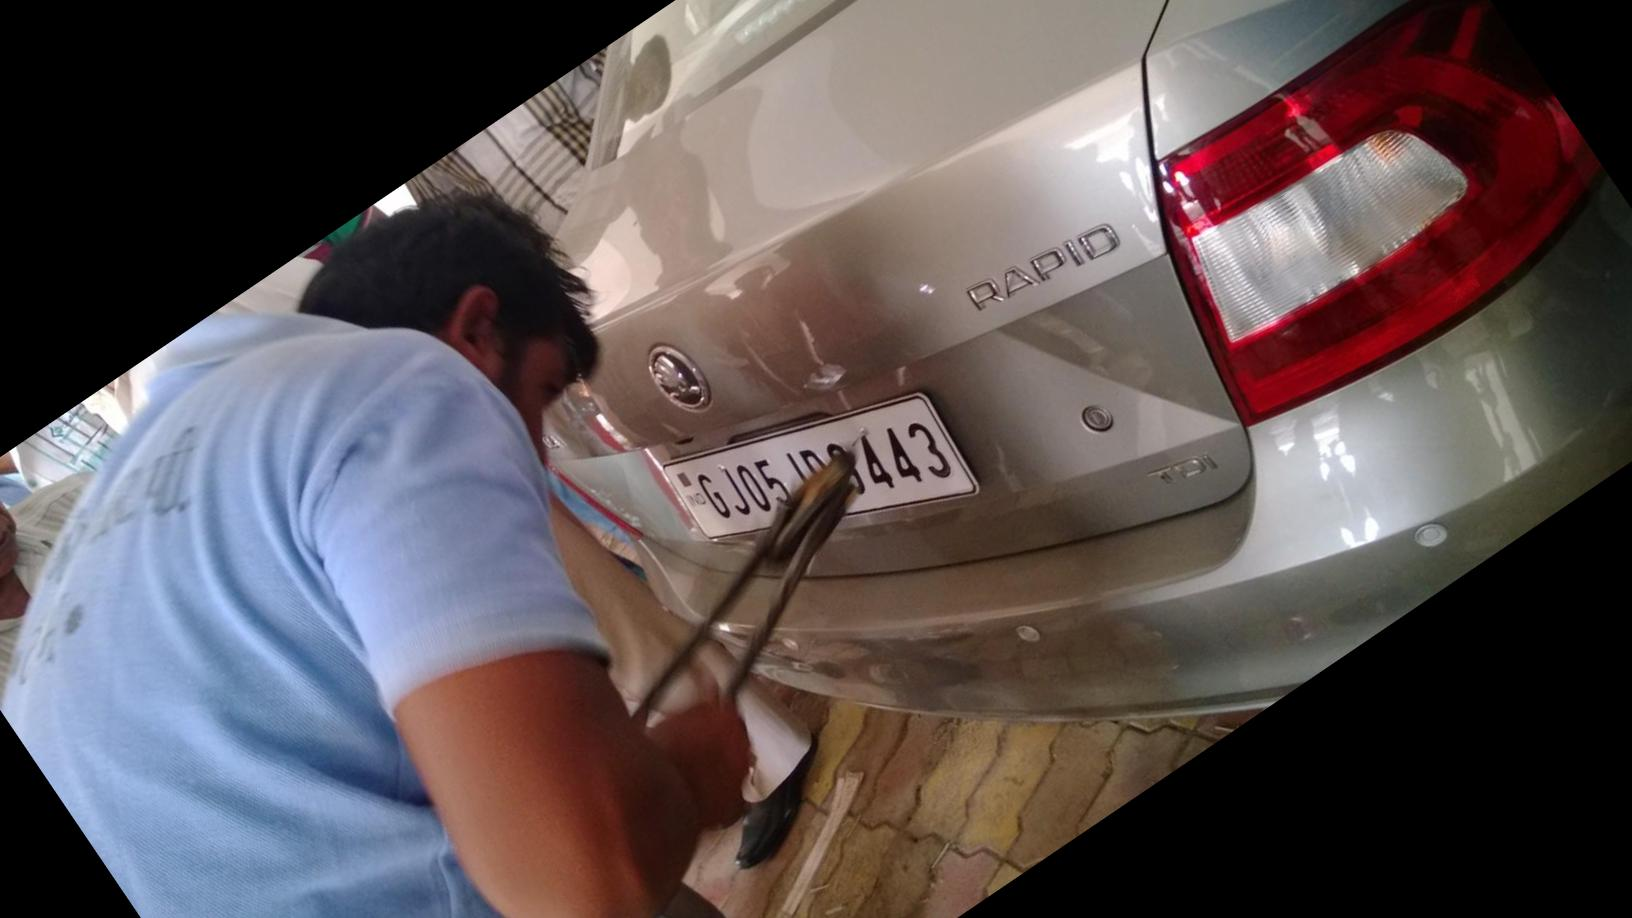plate: (645, 301, 996, 632)
